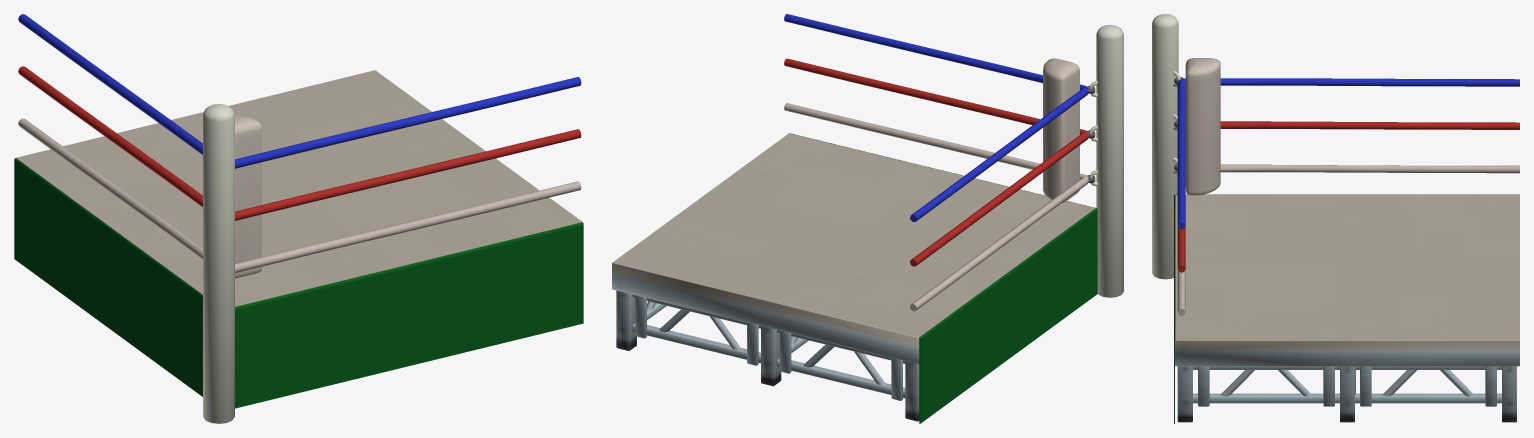
The picture shows the model from 3 angles, left to right: view 1: azimuth 30°, elevation 25°; view 2: azimuth 150°, elevation 25°; view 3: azimuth 270°, elevation 25°; orthographic projection. The views are drawn at different scales.
Size of the model in its own units: 19.91 by 15.43 by 19.91.
Materials: 2 (2 with a texture image).
